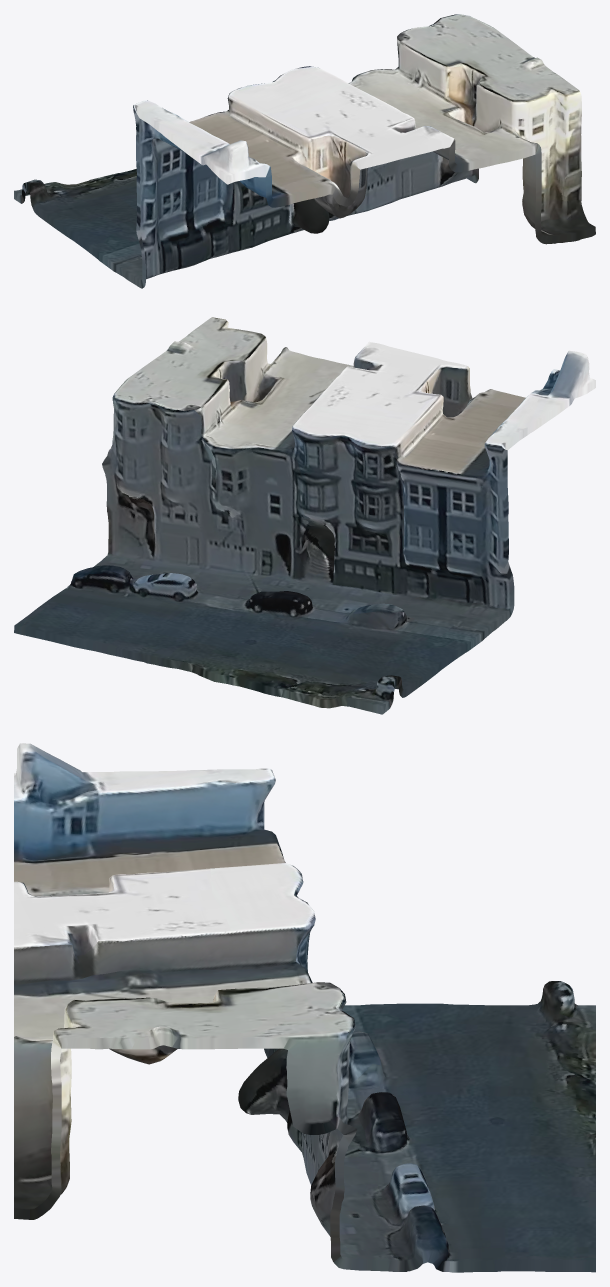
The model's file is z20-167739-405194-h0-yup-uvflip-v3-world.glb.
The picture shows the model from 3 angles, top to bottom: view 1: azimuth 30°, elevation 25°; view 2: azimuth 150°, elevation 25°; view 3: azimuth 270°, elevation 25°; orthographic projection. The views are drawn at different scales.
Size of the model in its own units: 30.2 by 16.76 by 30.32.
Materials: 1 (1 with a texture image).
